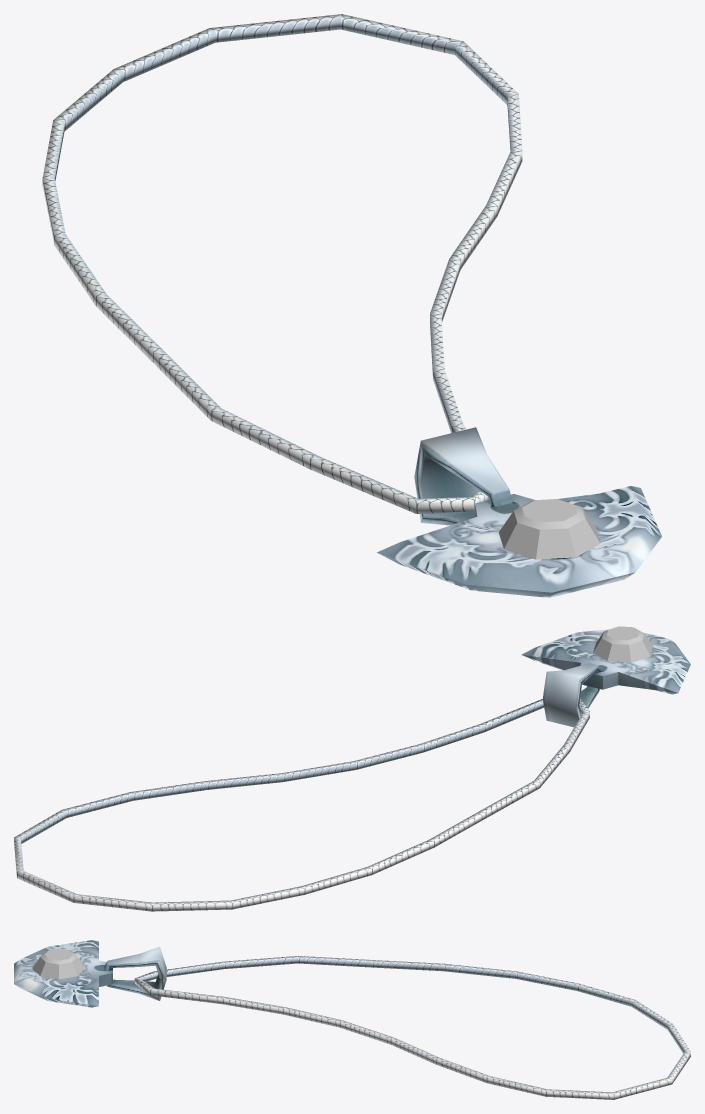
Rendered from pendant_03.fbx.
3 renders of one model, top to bottom at view 1: azimuth 30°, elevation 25°; view 2: azimuth 150°, elevation 25°; view 3: azimuth 270°, elevation 25°, orthographic. The views are drawn at different scales.
Parts seen in each view (by area): view 1: pendant_03; view 2: pendant_03; view 3: pendant_03.
Part boxes in pixels (x1,y1,x2,y2): pendant_03: (42, 14, 661, 597); pendant_03: (14, 626, 690, 911); pendant_03: (14, 940, 690, 1099).
Bounding box in the file's own units: 15.07 × 1.97 × 29.35.
